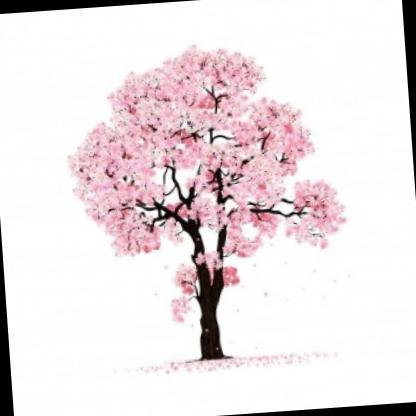branch_cut: (105, 132, 316, 260)
crown_dizzy: (58, 33, 349, 266)
root_none: (190, 342, 242, 370)
trunk_straight: (193, 304, 228, 341)
